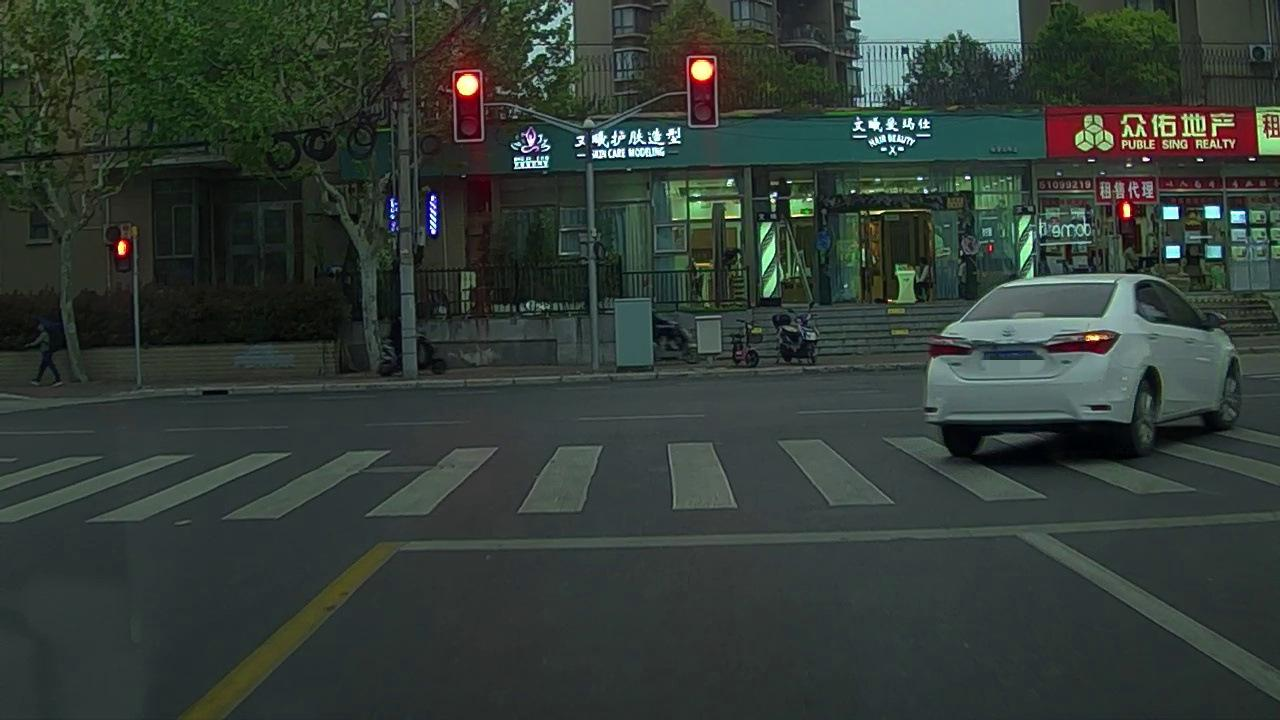traffic_light: (686, 55, 722, 127), (454, 69, 485, 140)
